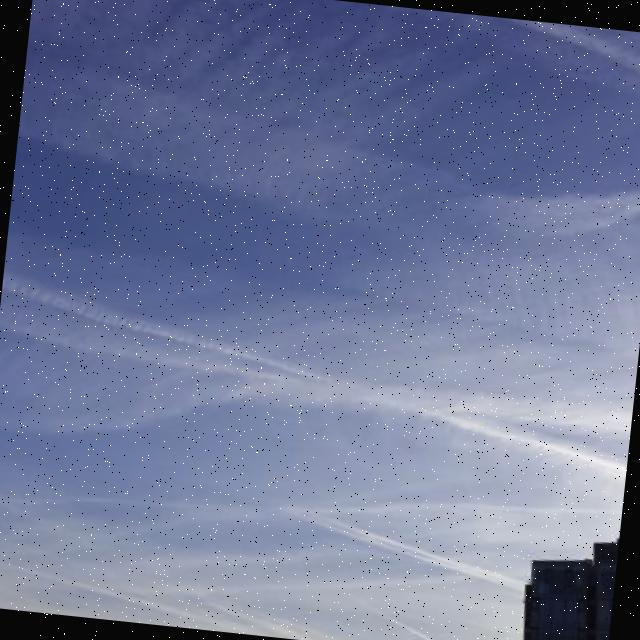Ct: (1, 102, 630, 479)
